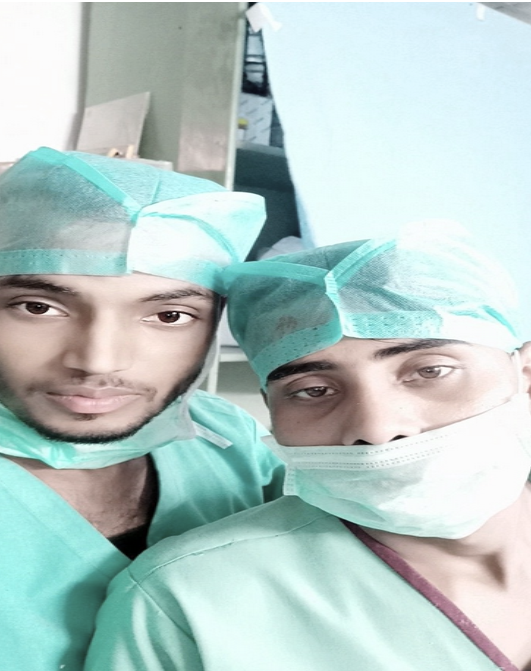mask_weared_incorrect: (223, 216, 531, 543)
